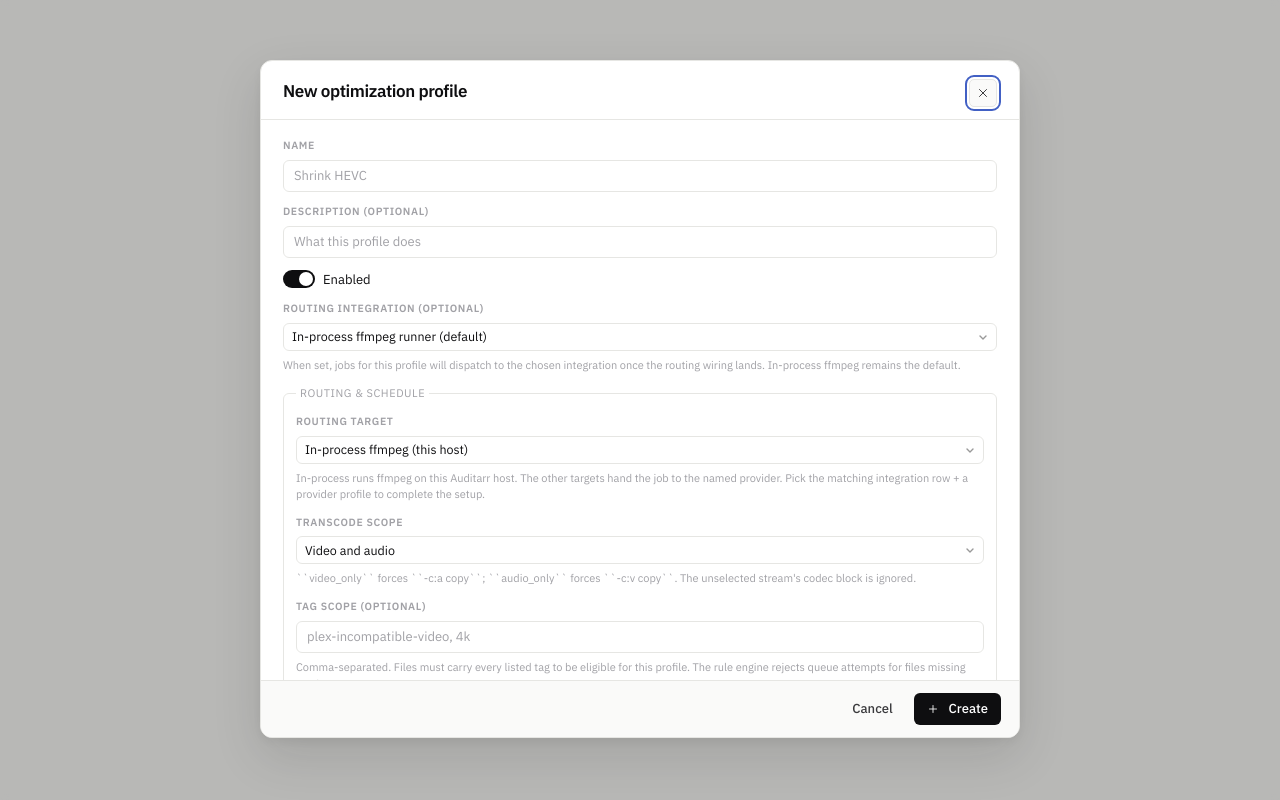
Test case: Stage 08 — provider profile picker fetches and renders › fetches /integrations/{id}/transcode-profiles when routing target is tdarr and integration is picked
The image size is (1280, 800).
Select "Tdarr" in the dropdown with test id "routing-target-select" at coordinates (640, 450), box [296, 436, 984, 464]
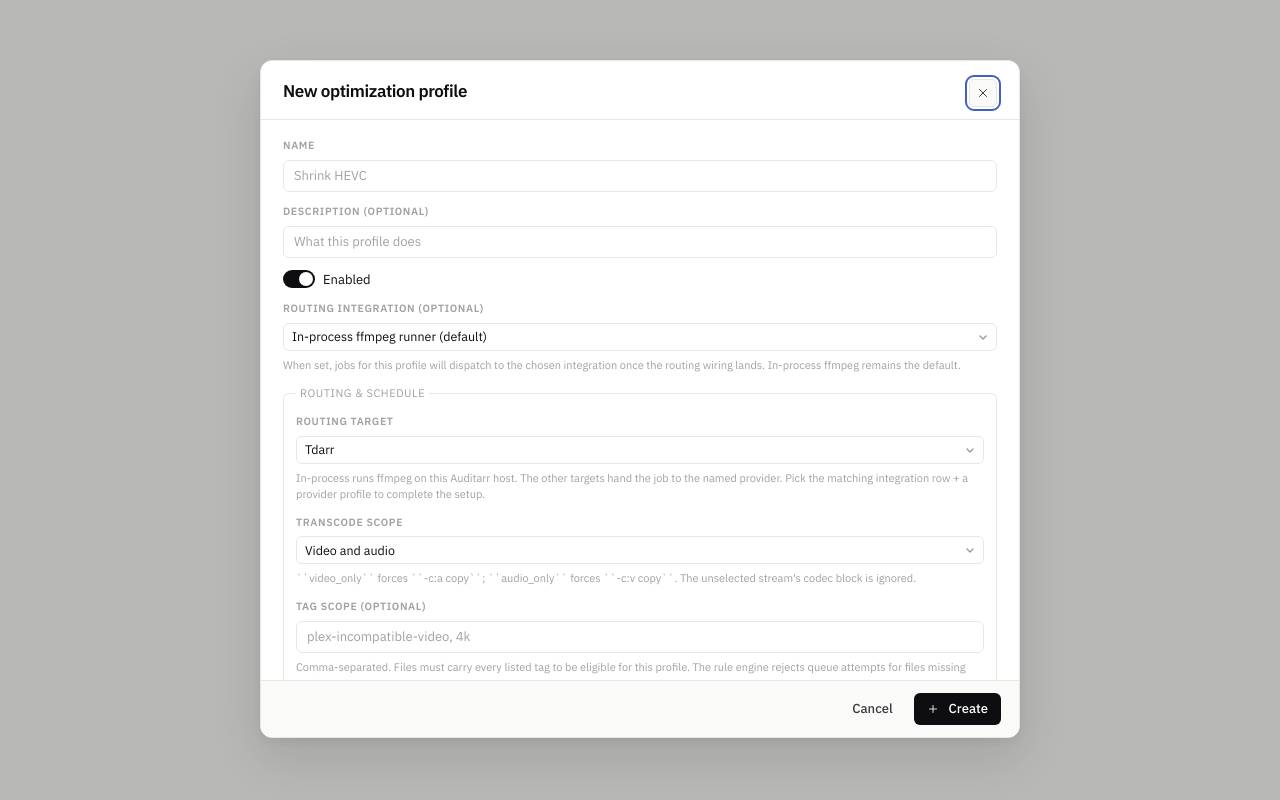
Select "Tdarr Box (tdarr)" in the dropdown labelled "Routing integration" at coordinates (640, 337), box [283, 323, 997, 351]
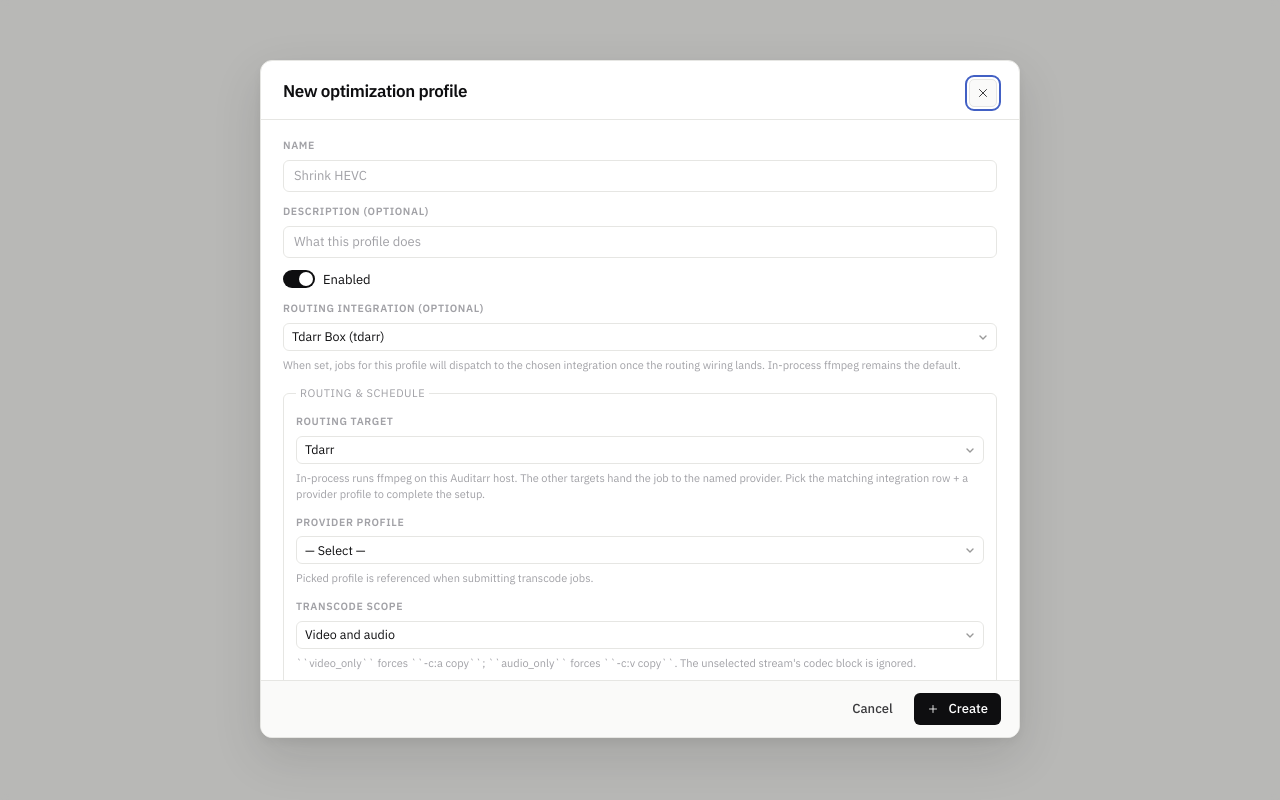
Expected: the dropdown with test id "provider-profile-select" is shown, [296, 536, 984, 564]
